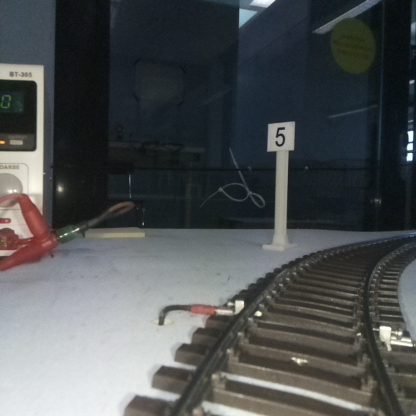white-info-5: (267, 121, 295, 248)
